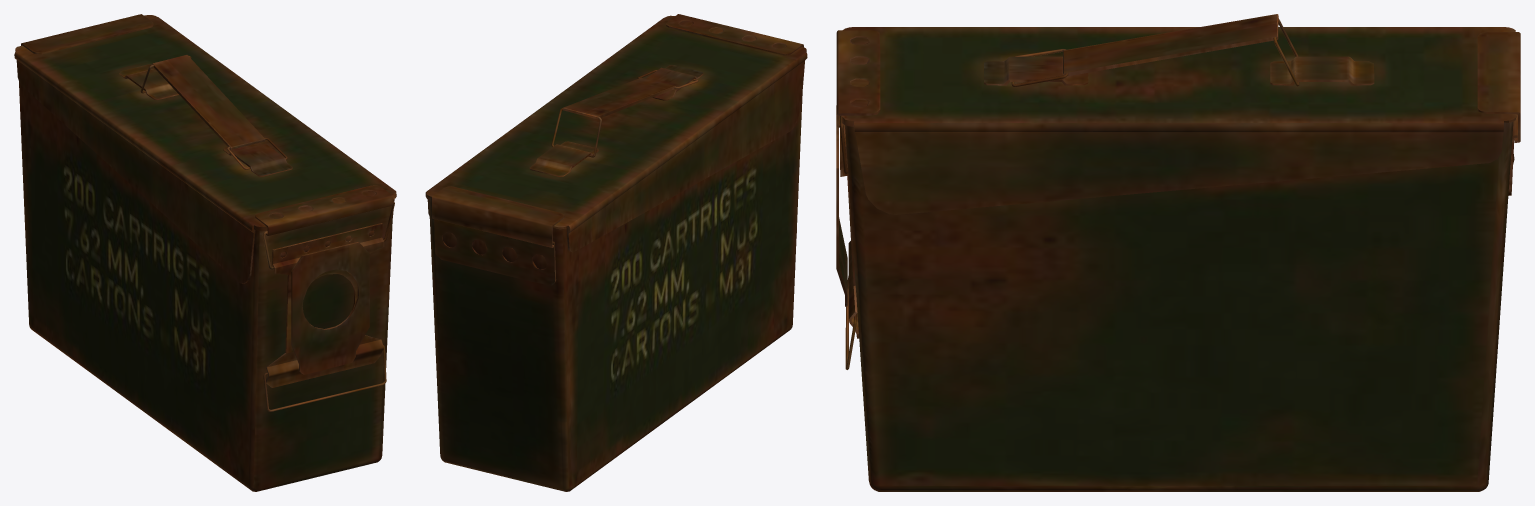
File: ammo_box.glb
3 renders of one model, left to right at view 1: azimuth 30°, elevation 25°; view 2: azimuth 150°, elevation 25°; view 3: azimuth 270°, elevation 25°, orthographic. The views are drawn at different scales.
Visible parts, largest first — view 1: ammo_box, ammo_box_handle, ammo_box_latch; view 2: ammo_box, ammo_box_handle; view 3: ammo_box, ammo_box_handle.
Boxes of the visible parts, <box> form: ammo_box: <box>14,14,396,491</box>; ammo_box_handle: <box>152,55,265,149</box>; ammo_box_latch: <box>263,345,386,411</box>; ammo_box: <box>425,14,807,491</box>; ammo_box_handle: <box>563,77,675,119</box>; ammo_box: <box>836,27,1520,491</box>; ammo_box_handle: <box>1063,14,1278,76</box>.
Bounding box in the file's own units: 0.0865 × 0.1773 × 0.2578.
Materials: 1 (1 with a texture image).
